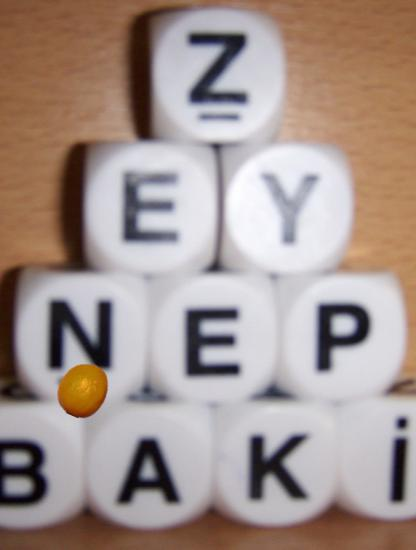Lemon: (55, 361, 112, 418)
